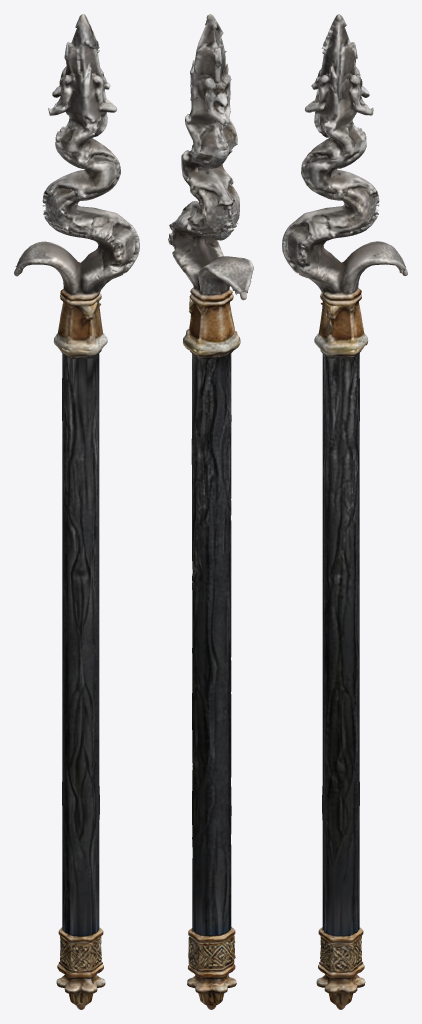
3 views of the same model, side by side, from view 1: azimuth 90°, elevation 25°; view 2: azimuth 210°, elevation 25°; view 3: azimuth 270°, elevation 25° (orthographic).
Visible parts, largest first — view 1: tripo_node_041307f4-0a1b-4674-be53-c632f6a03e67; view 2: tripo_node_041307f4-0a1b-4674-be53-c632f6a03e67; view 3: tripo_node_041307f4-0a1b-4674-be53-c632f6a03e67.
Boxes of the visible parts, x1,y1,x2,y2 form: tripo_node_041307f4-0a1b-4674-be53-c632f6a03e67: (14,14,139,1009); tripo_node_041307f4-0a1b-4674-be53-c632f6a03e67: (168,14,253,1009); tripo_node_041307f4-0a1b-4674-be53-c632f6a03e67: (282,14,407,1009).
Size of the model in its own units: 0.0487 by 0.9865 by 0.1131.
Materials: 1 (1 with a texture image).
